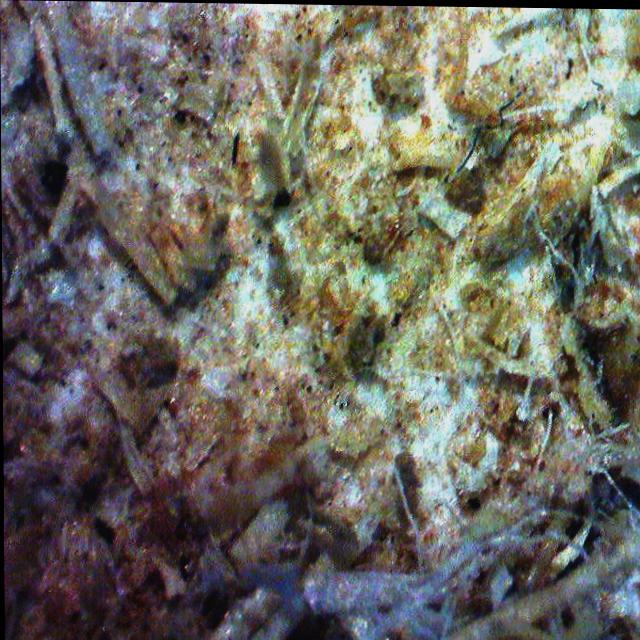microplastic: (446, 89, 527, 173)
